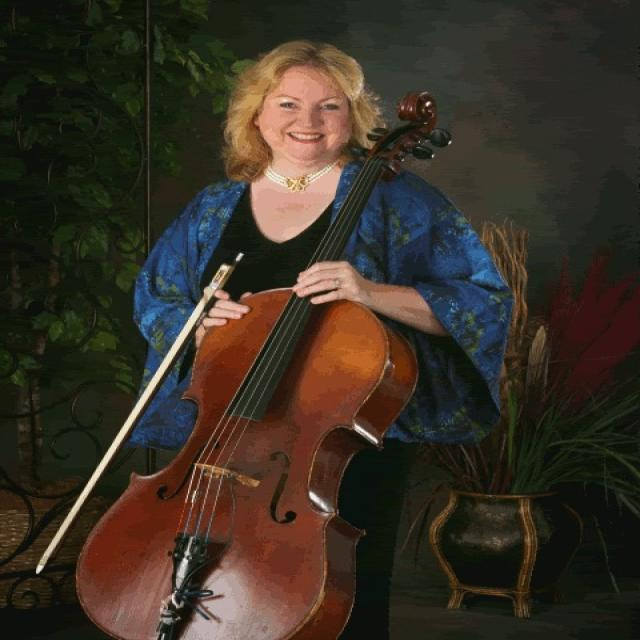cello: (76, 87, 459, 640)
